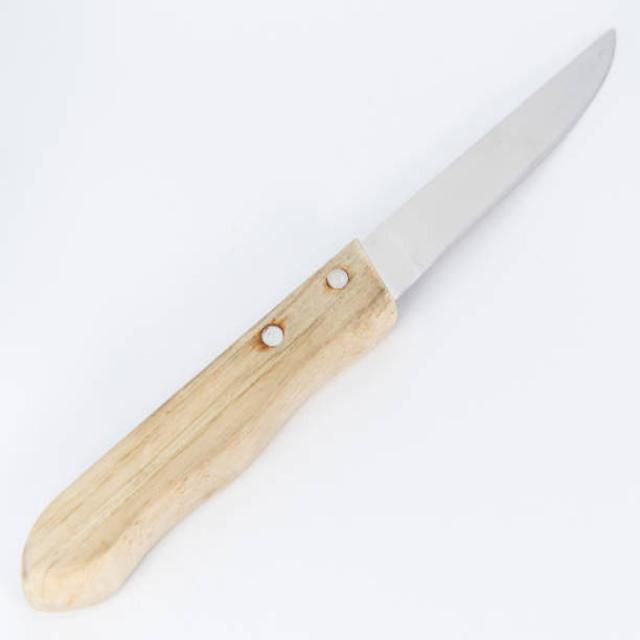knife: (13, 15, 639, 640)
